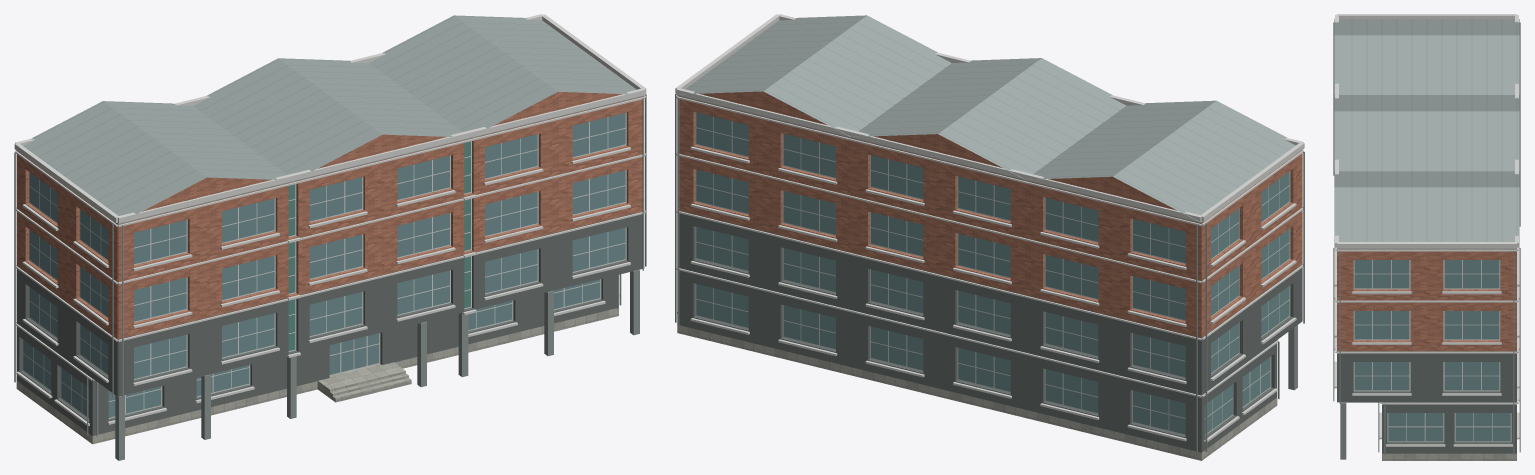
The picture shows the model from 3 angles, left to right: view 1: azimuth 30°, elevation 25°; view 2: azimuth 150°, elevation 25°; view 3: azimuth 270°, elevation 25°; orthographic projection. The views are drawn at different scales.
Parts seen in each view (by area): view 1: southwest__roof, southwest__brick, southwest__glass, southwest__dark, southwest__white, southwest__steel, southwest__frame, southwest__stone, southwest__green-glass, southwest__stair-piloti, southwest__threshold-piloti; view 2: southwest__roof, southwest__brick, southwest__glass, southwest__dark, southwest__white, southwest__steel, southwest__frame, southwest__stone; view 3: southwest__roof, southwest__glass, southwest__brick, southwest__dark, southwest__steel, southwest__white, southwest__frame, southwest__stone.
Part boxes in pixels (x1,y1,x2,y2): southwest__roof: [23, 15, 645, 224]; southwest__brick: [16, 91, 644, 339]; southwest__glass: [23, 113, 625, 417]; southwest__dark: [16, 211, 644, 435]; southwest__white: [14, 14, 646, 425]; southwest__steel: [14, 16, 646, 460]; southwest__frame: [22, 112, 626, 418]; southwest__stone: [16, 308, 618, 444]; southwest__green-glass: [288, 141, 470, 350]; southwest__stair-piloti: [327, 369, 411, 402]; southwest__threshold-piloti: [317, 362, 402, 395]; southwest__roof: [676, 15, 1295, 223]; southwest__brick: [677, 91, 1302, 337]; southwest__glass: [696, 112, 1289, 434]; southwest__dark: [677, 210, 1302, 452]; southwest__white: [675, 14, 1304, 442]; southwest__steel: [675, 22, 1304, 452]; southwest__frame: [695, 112, 1290, 435]; southwest__stone: [677, 325, 1277, 460]; southwest__roof: [1334, 19, 1519, 402]; southwest__glass: [1354, 260, 1510, 441]; southwest__brick: [1337, 249, 1516, 351]; southwest__dark: [1337, 351, 1516, 453]; southwest__steel: [1333, 19, 1520, 459]; southwest__white: [1334, 14, 1519, 446]; southwest__frame: [1353, 260, 1511, 441]; southwest__stone: [1382, 453, 1516, 460].
Size of the model in its own units: 36.51 by 17.37 by 12.51.
Materials: 9 (5 with a texture image).
